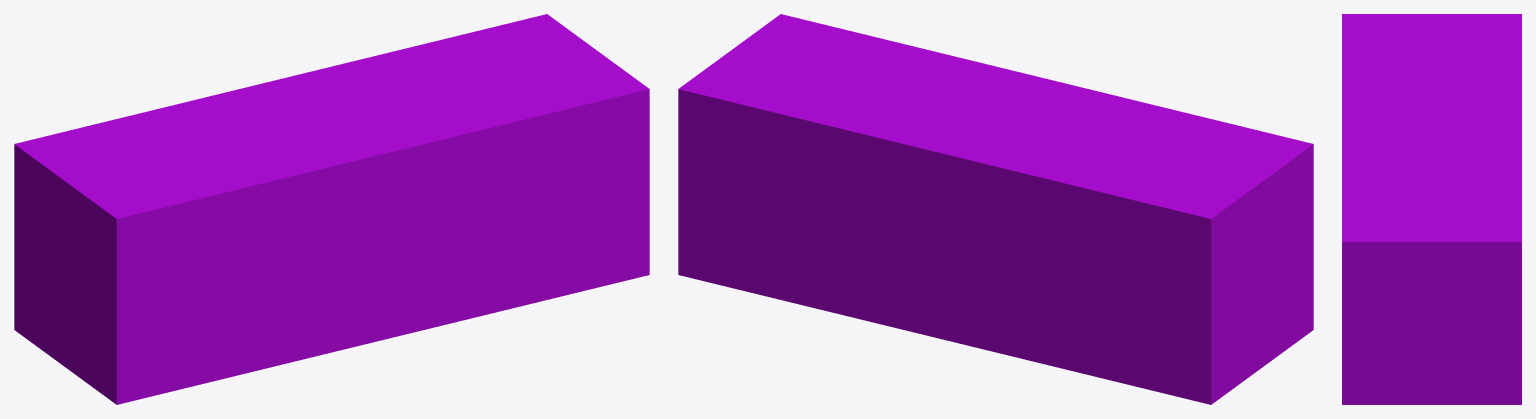
The model's file is BomberBullet.glb.
3 views of the same model, side by side, from view 1: azimuth 30°, elevation 25°; view 2: azimuth 150°, elevation 25°; view 3: azimuth 270°, elevation 25° (orthographic). The views are drawn at different scales.
Visible parts, largest first — view 1: Cube.001; view 2: Cube.001; view 3: Cube.001.
Boxes of the visible parts, left/top/right/bottom form: Cube.001: left=14, top=14, right=649, bottom=404; Cube.001: left=678, top=14, right=1313, bottom=404; Cube.001: left=1342, top=14, right=1521, bottom=404.
Size of the model in its own units: 12 by 4 by 4.
